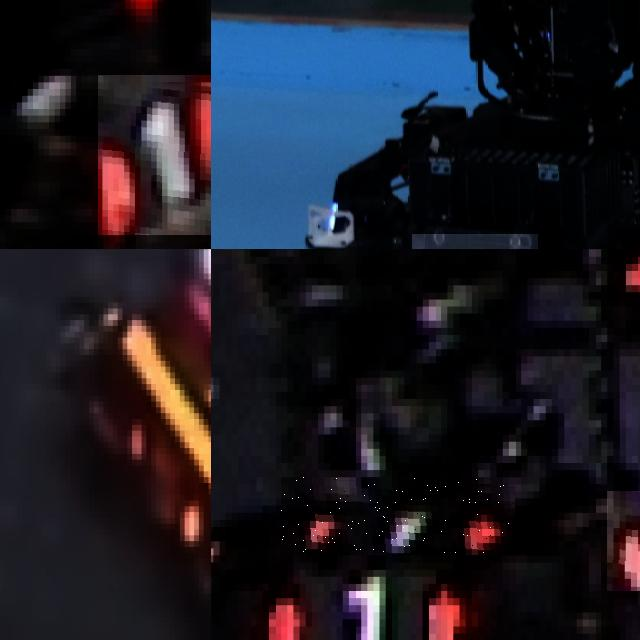R1: (281, 478, 515, 556), (98, 75, 211, 235), (250, 569, 471, 640), (607, 491, 640, 590)
